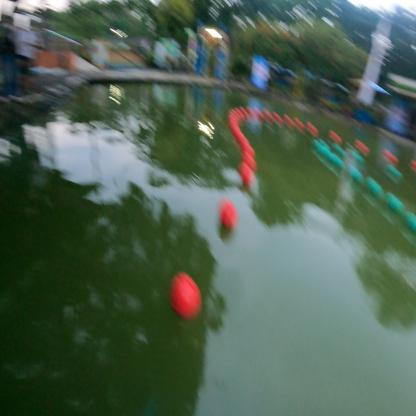green_buoy: (383, 195, 402, 223), (365, 180, 382, 210), (346, 167, 362, 190)
red_buoy: (168, 271, 202, 319), (218, 201, 239, 230), (238, 162, 255, 186)
